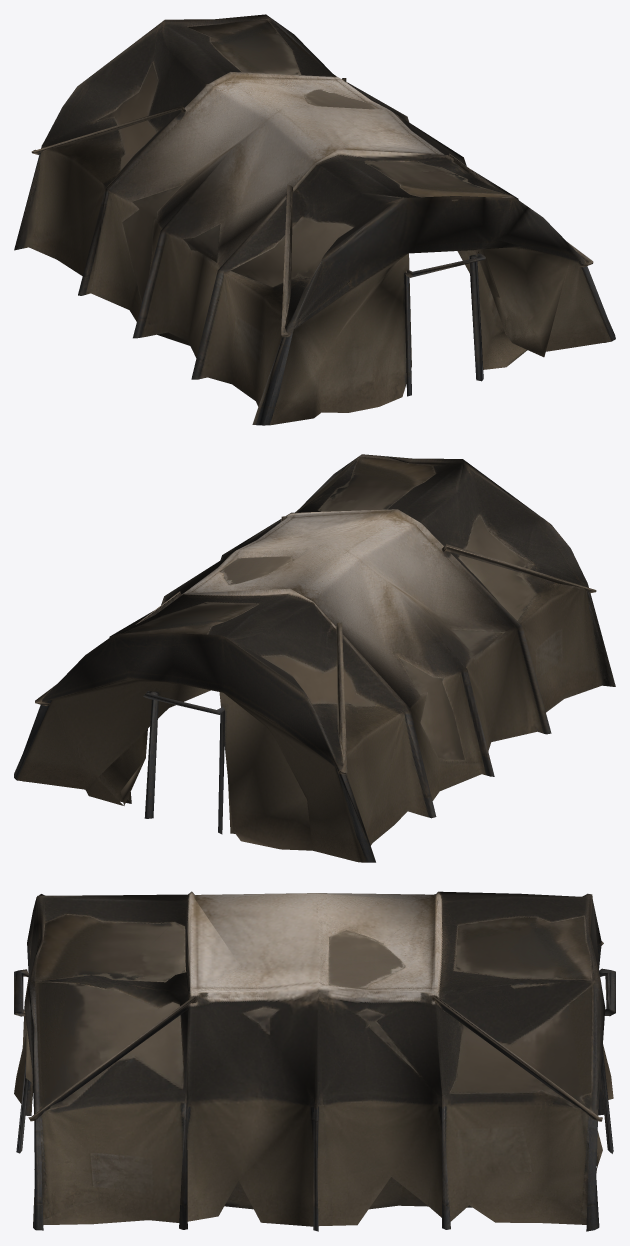
File: Meshy_AI_Tattered_Wasteland_Te_0831103742_texture.fbx
3 renders of one model, top to bottom at view 1: azimuth 30°, elevation 25°; view 2: azimuth 150°, elevation 25°; view 3: azimuth 270°, elevation 25°, orthographic. The views are drawn at different scales.
Visible parts, largest first — view 1: mesh_node; view 2: mesh_node; view 3: mesh_node.
Boxes of the visible parts, <box> form: mesh_node: <box>14,14,615,425</box>; mesh_node: <box>14,454,615,862</box>; mesh_node: <box>14,891,615,1231</box>.
Bounding box in the file's own units: 79.49 × 40.53 × 99.41.
1 material, 1 textured.
